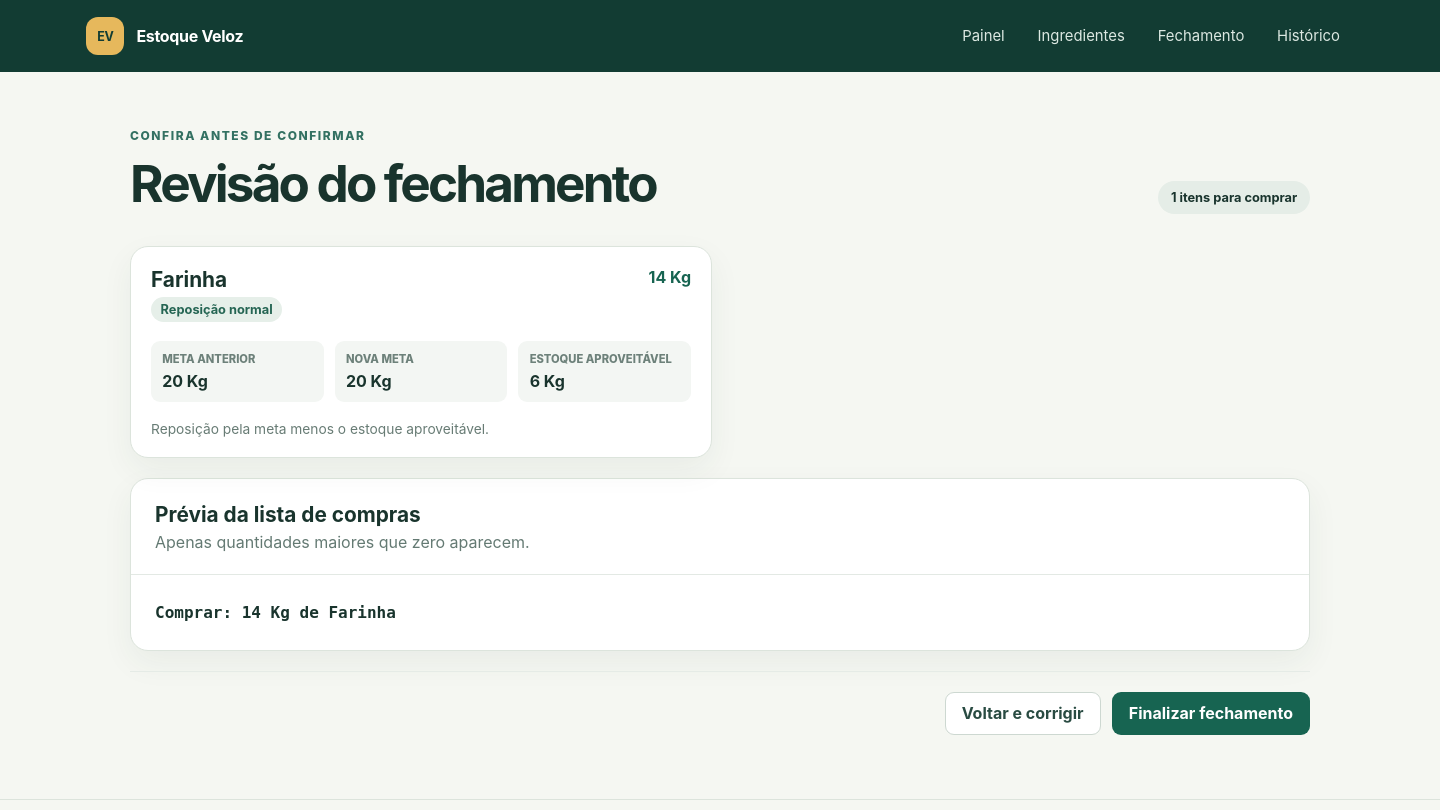
Test: Fechamento mensal › mostra os cálculos e finaliza após confirmação
Check: the text "Comprar: 14 Kg de Farinha" is shown, box [155,603,396,622]
Check: the text "Reposição normal" is shown, box [151,297,282,322]
Click the button "Finalizar fechamento": x=1211, y=713 [1112,692,1310,735]
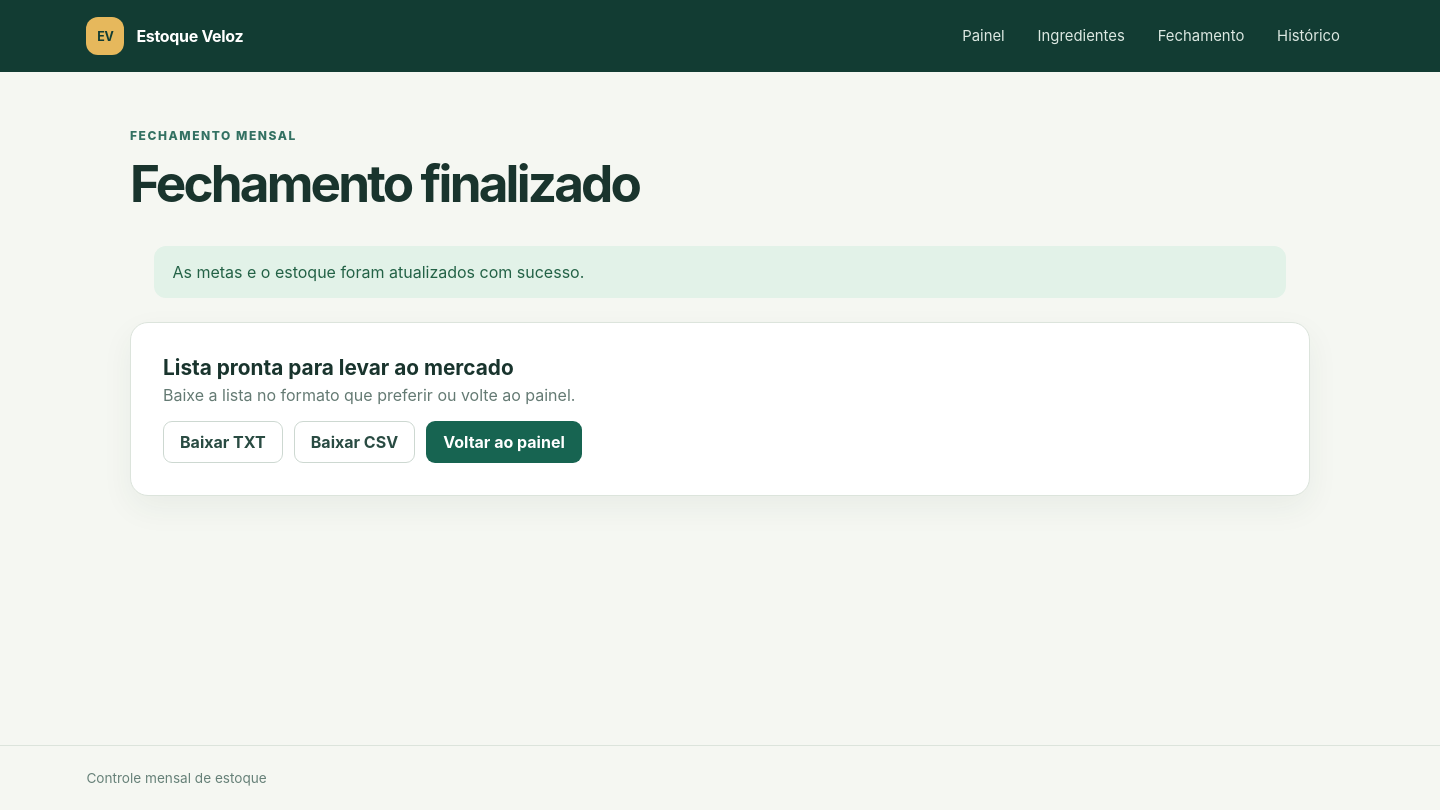
Check: the heading "Fechamento finalizado" is shown, box [130,152,639,214]
